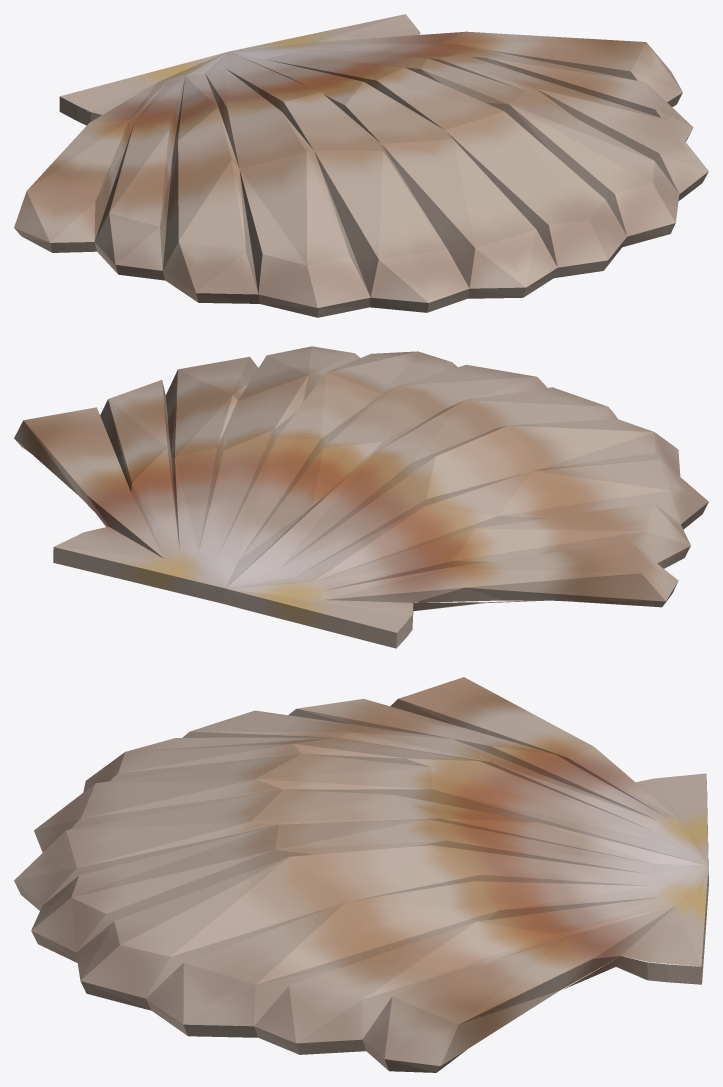
The model's file is ShellOil_LOW.glb.
3 renders of one model, top to bottom at view 1: azimuth 30°, elevation 25°; view 2: azimuth 150°, elevation 25°; view 3: azimuth 270°, elevation 25°, orthographic. The views are drawn at different scales.
Visible parts, largest first — view 1: Node.001, Node; view 2: Node.001, Node; view 3: Node.001, Node.
Boxes of the visible parts, x1,y1,x2,y2 form: Node.001: (14, 14, 708, 307); Node: (14, 93, 708, 317); Node.001: (14, 346, 708, 632); Node: (14, 438, 708, 648); Node.001: (14, 677, 708, 1066); Node: (14, 781, 708, 1072).
Bounding box in the file's own units: 2.98 × 0.365 × 2.38.
Materials: 1 (1 with a texture image).
